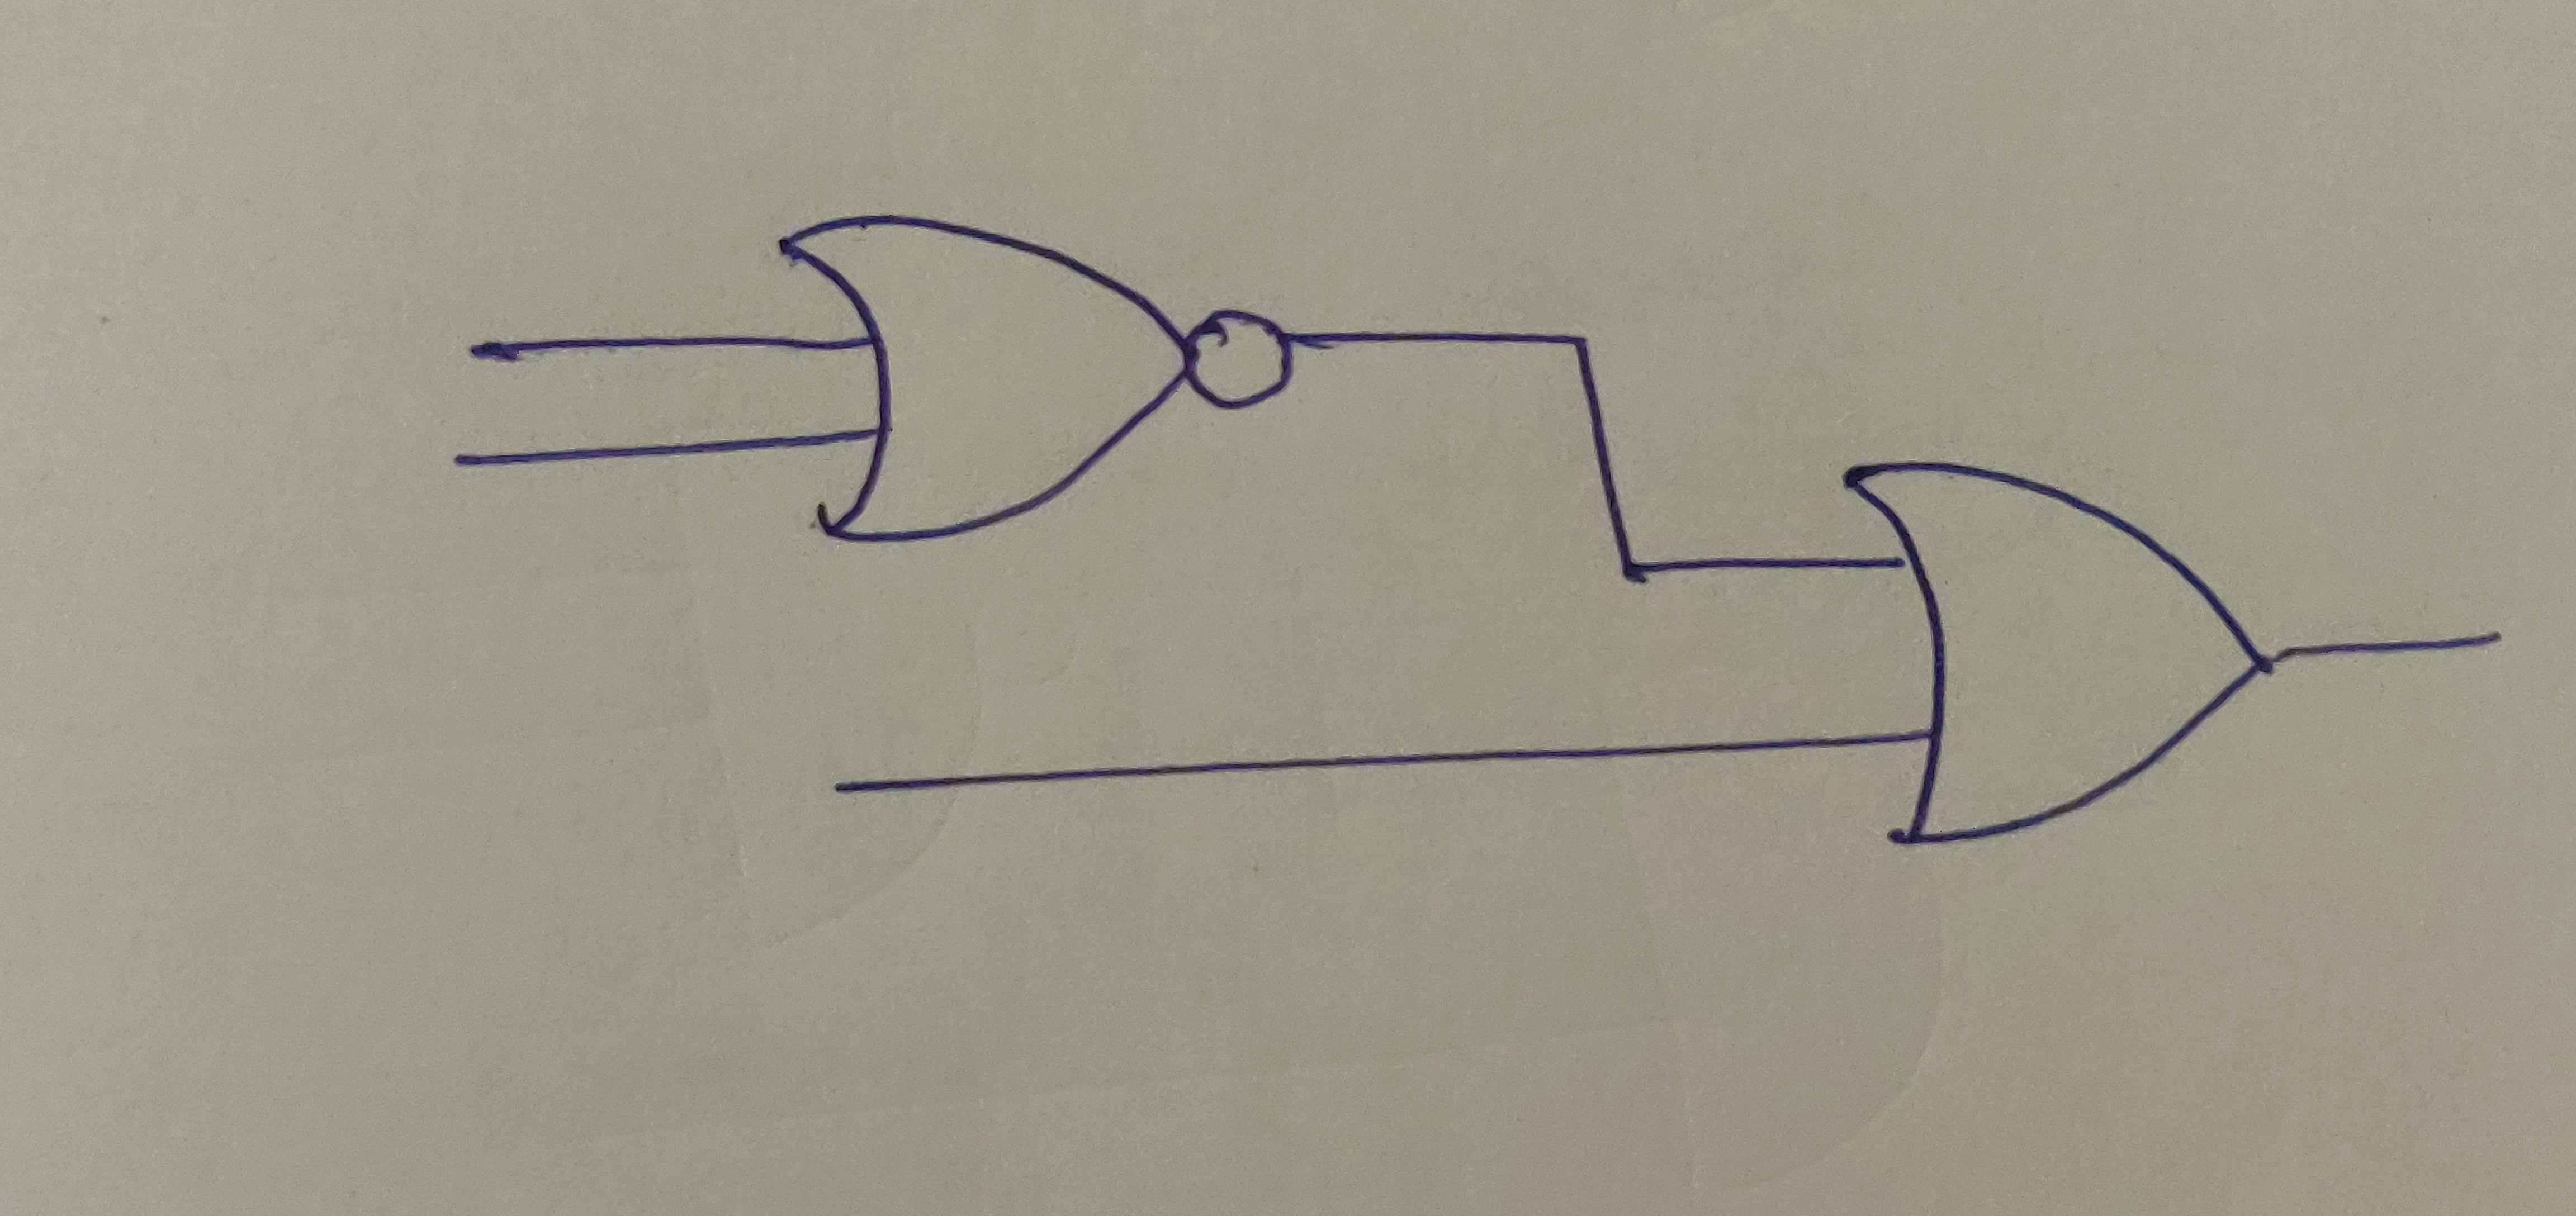not: (1189, 309, 1298, 404)
or: (1845, 460, 2280, 841), (767, 212, 1196, 541)
